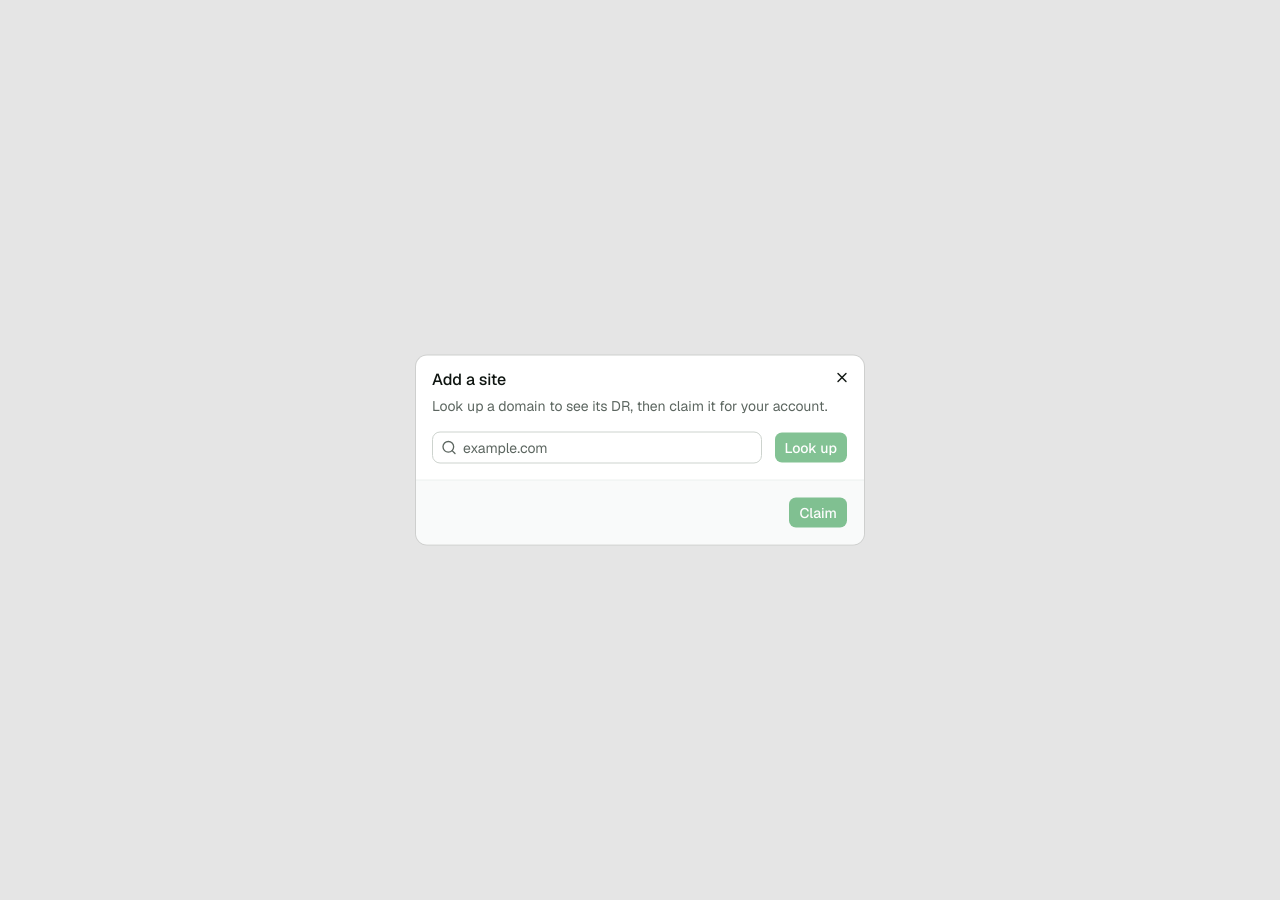
Test: AddSiteDialog › shows the lookup’s refusal, and a lost connection
Type "not a domain" into the field named "Domain" at (609, 448), box left=457, top=432, right=760, bottom=464
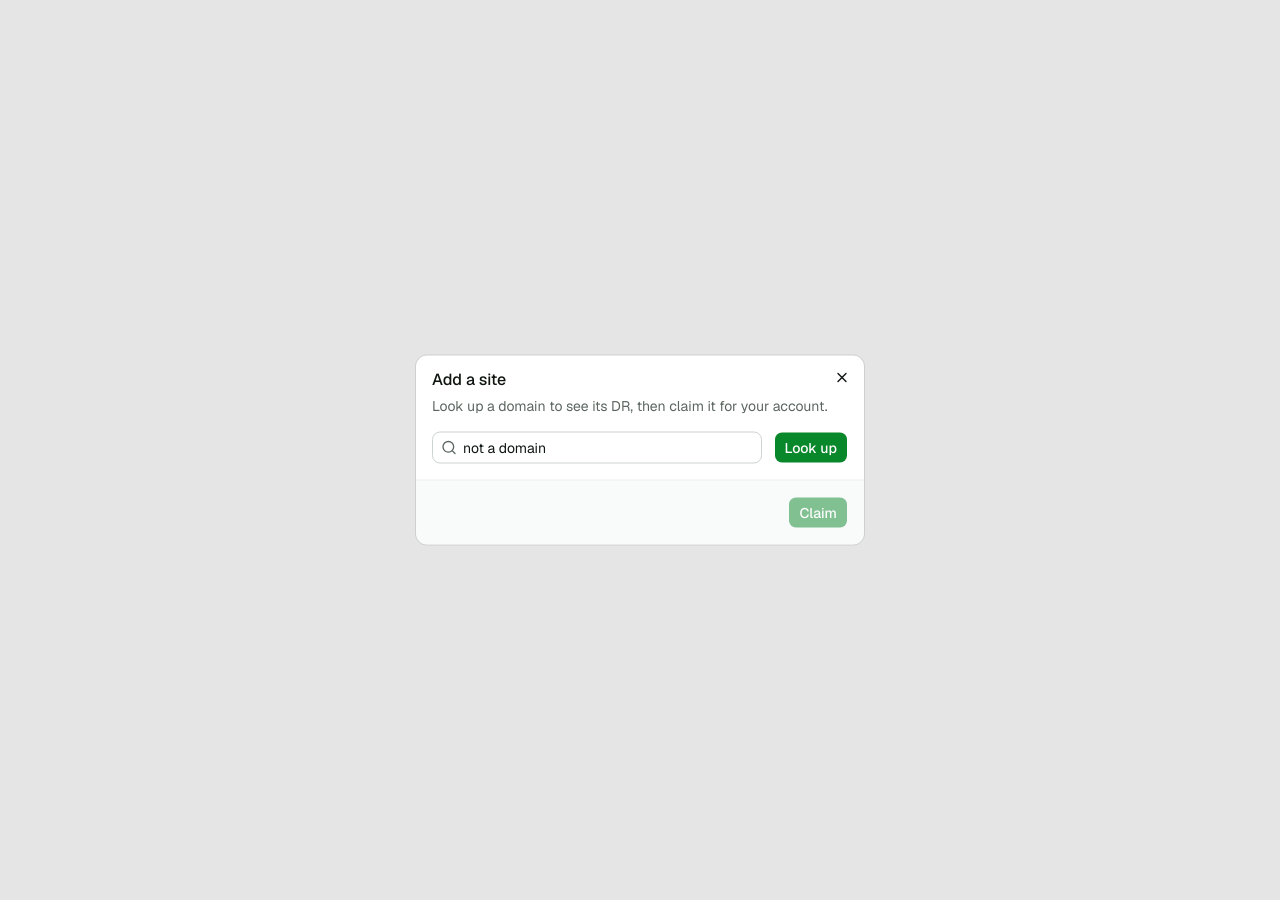
Click the button "Look up" at (811, 448), box left=774, top=432, right=848, bottom=464
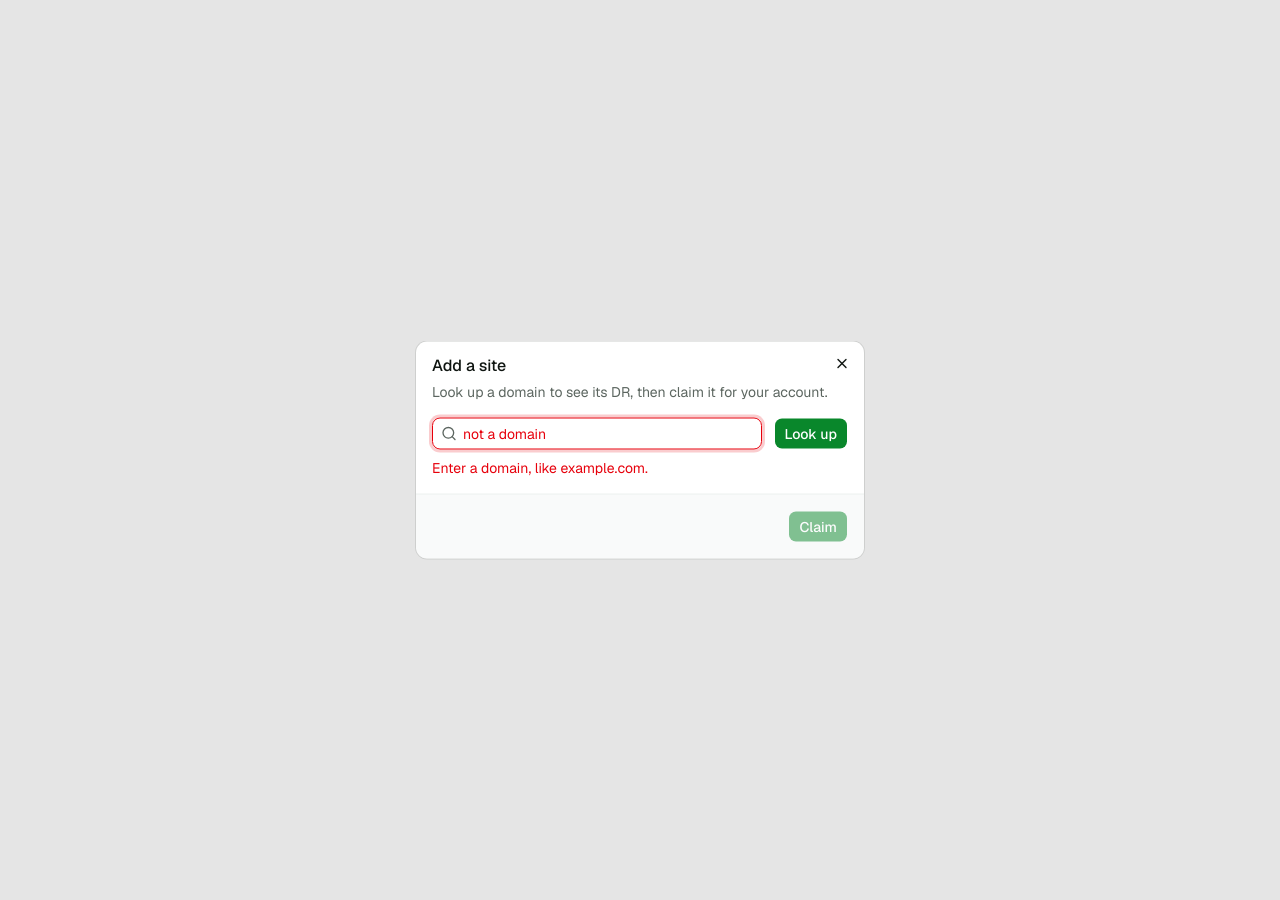
Now the text "Enter a domain, like example.com." is shown, box left=432, top=458, right=648, bottom=476
Replace the text in the field named "Domain" with "stripe.com" at (609, 434), box left=457, top=418, right=760, bottom=450
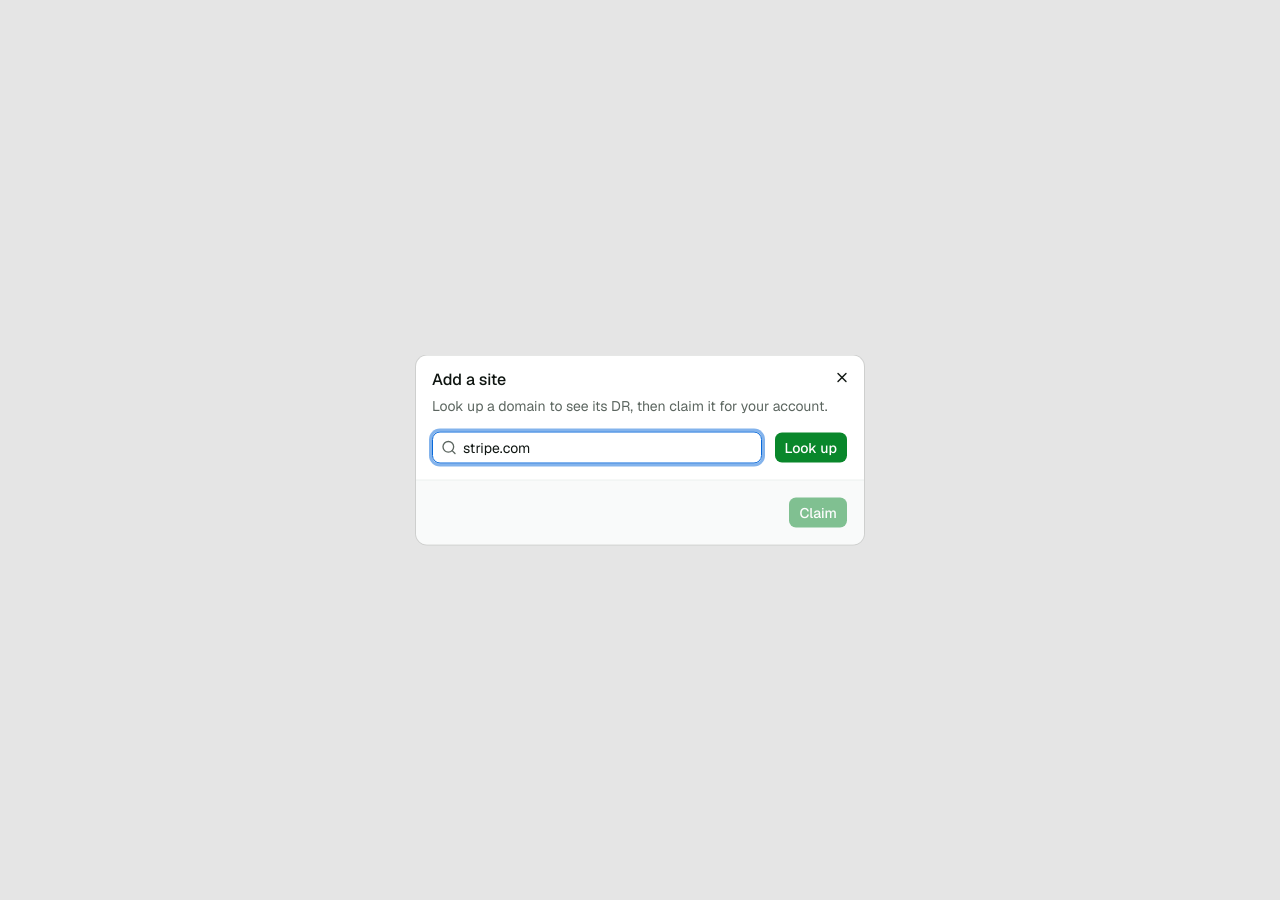
Click the button "Look up" at (811, 448), box left=774, top=432, right=848, bottom=464
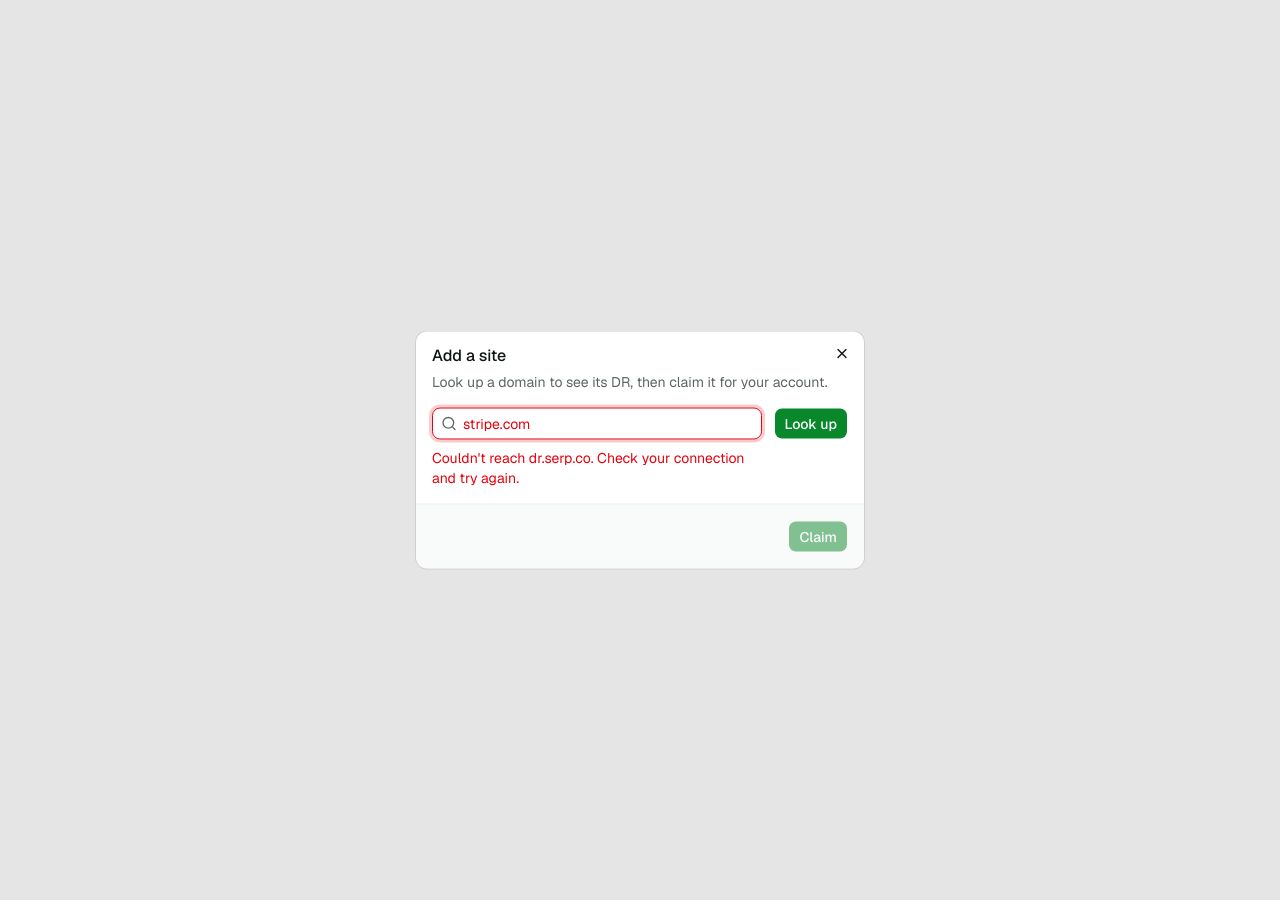
Now the text "Couldn't reach dr.serp.co. Check your connection and try again." is shown, box left=432, top=448, right=762, bottom=488
